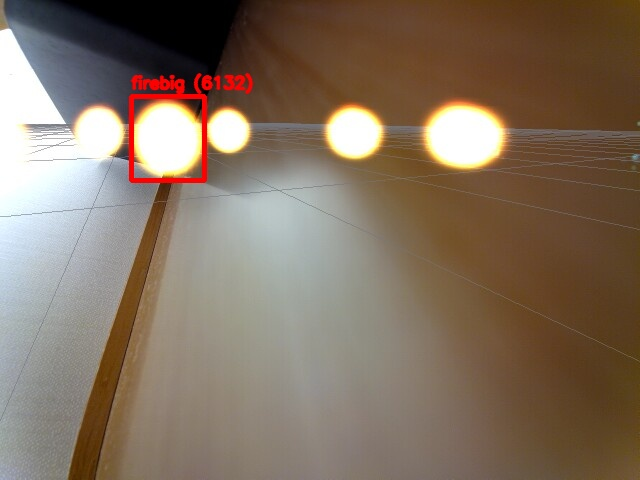firebig: (131, 96, 204, 180)
